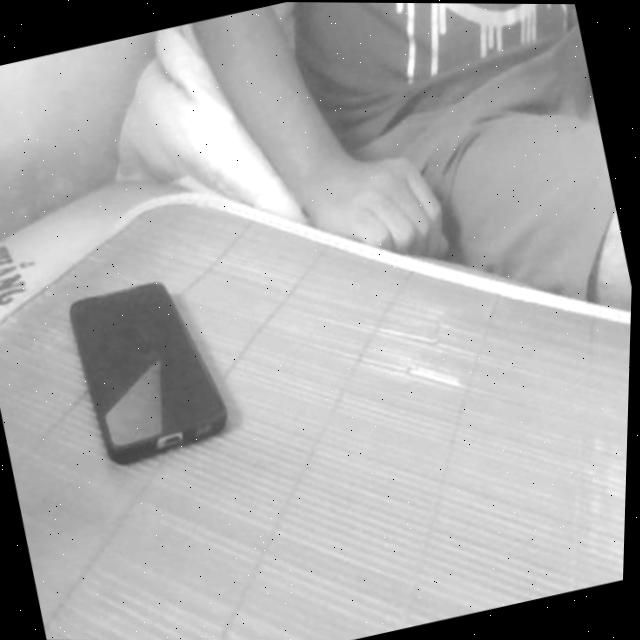phone: (0, 211, 302, 536)
